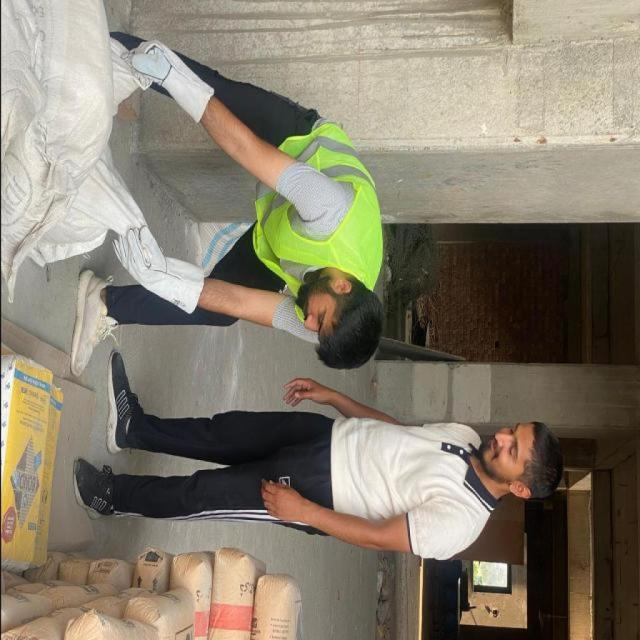Gloves-Detection: (112, 219, 203, 321), (128, 38, 216, 127)
